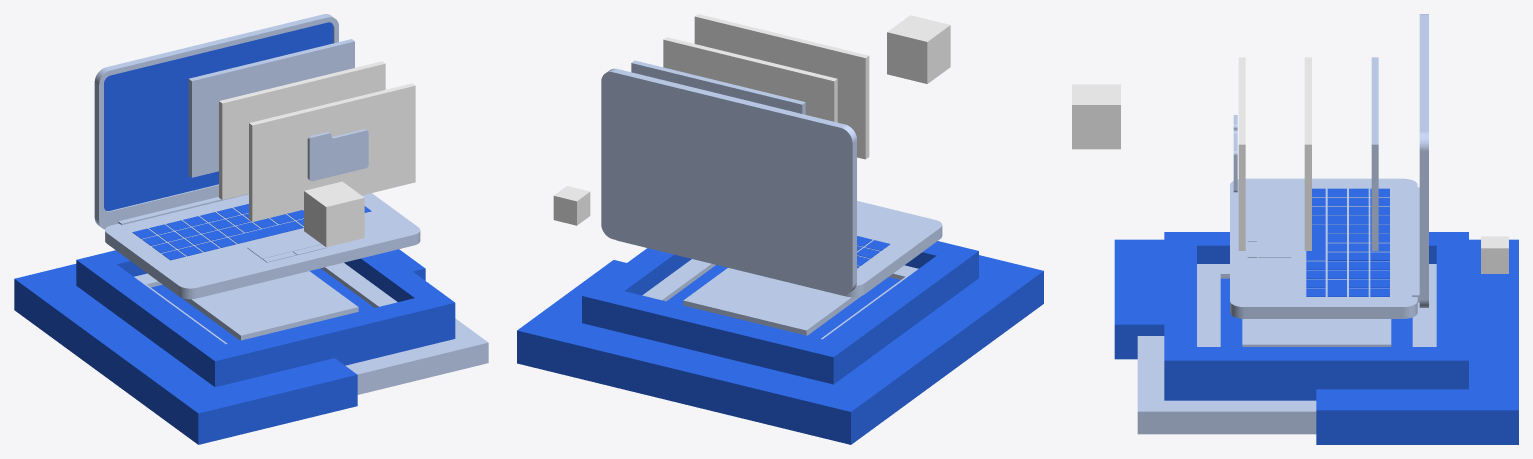
3 renders of one model, left to right at view 1: azimuth 30°, elevation 25°; view 2: azimuth 150°, elevation 25°; view 3: azimuth 270°, elevation 25°, orthographic. The views are drawn at different scales.
Visible parts, largest first — view 1: 立方体.005, 立方体.006, 立方体.004, 立方体.018, 立方体, 立方体.003, 立方体.002, 立方体.008, 立方体.048, 立方体.007, 立方体.011, 立方体.021 (+3 smaller); view 2: 立方体.004, 立方体.005, 立方体.006, 立方体.018, 立方体.008, 立方体.002, 立方体, 立方体.011, 立方体.003, 立方体.013, 立方体.009, 立方体.016 (+1 smaller); view 3: 立方体.006, 立方体.005, 立方体, 立方体.048, 立方体.007, 立方体.008, 立方体.009, 立方体.011, 立方体.004, 立方体.013, 立方体.002, 立方体.018 (+3 smaller).
Boxes of the visible parts, x1,y1,x2,y2 form: 立方体.005: (14,249,425,444); 立方体.006: (76,250,455,387); 立方体.004: (94,14,338,229); 立方体.018: (249,83,415,221); 立方体: (105,193,420,299); 立方体.003: (188,39,354,177); 立方体.002: (219,61,385,199); 立方体.008: (182,271,358,340); 立方体.048: (132,204,371,262); 立方体.007: (345,318,488,394); 立方体.011: (304,181,364,247); 立方体.021: (307,129,368,181); 立方体.004: (601,68,856,294); 立方体.005: (517,255,1043,444); 立方体.006: (582,241,978,384); 立方体.018: (694,14,869,159); 立方体.008: (683,268,861,335); 立方体.002: (663,37,837,122); 立方体: (616,201,942,297); 立方体.011: (887,15,950,83); 立方体.003: (631,60,805,114); 立方体.013: (666,265,900,338); 立方体.009: (642,259,918,339); 立方体.016: (553,186,590,225); 立方体.006: (1164,232,1468,400); 立方体.005: (1114,239,1518,444); 立方体: (1230,178,1417,318); 立方体.048: (1247,188,1389,296); 立方体.007: (1137,336,1316,434); 立方体.008: (1242,319,1391,346); 立方体.009: (1197,264,1436,346); 立方体.011: (1072,84,1120,149); 立方体.004: (1419,14,1428,307); 立方体.013: (1220,278,1412,346); 立方体.002: (1304,57,1311,250); 立方体.018: (1238,57,1245,250).
Bounding box in the file's own units: 2.39 × 1.87 × 2.65.
